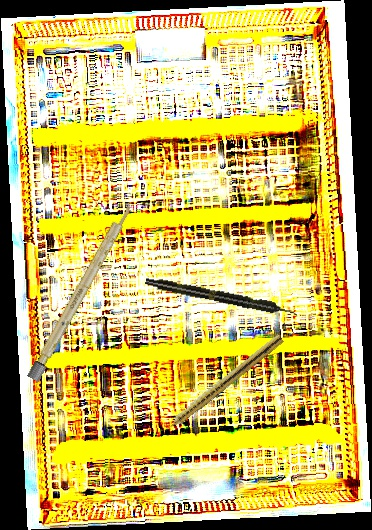Handpiece: (157, 331, 285, 438), (144, 275, 299, 320)
Scalpel Handle: (26, 200, 136, 383)
